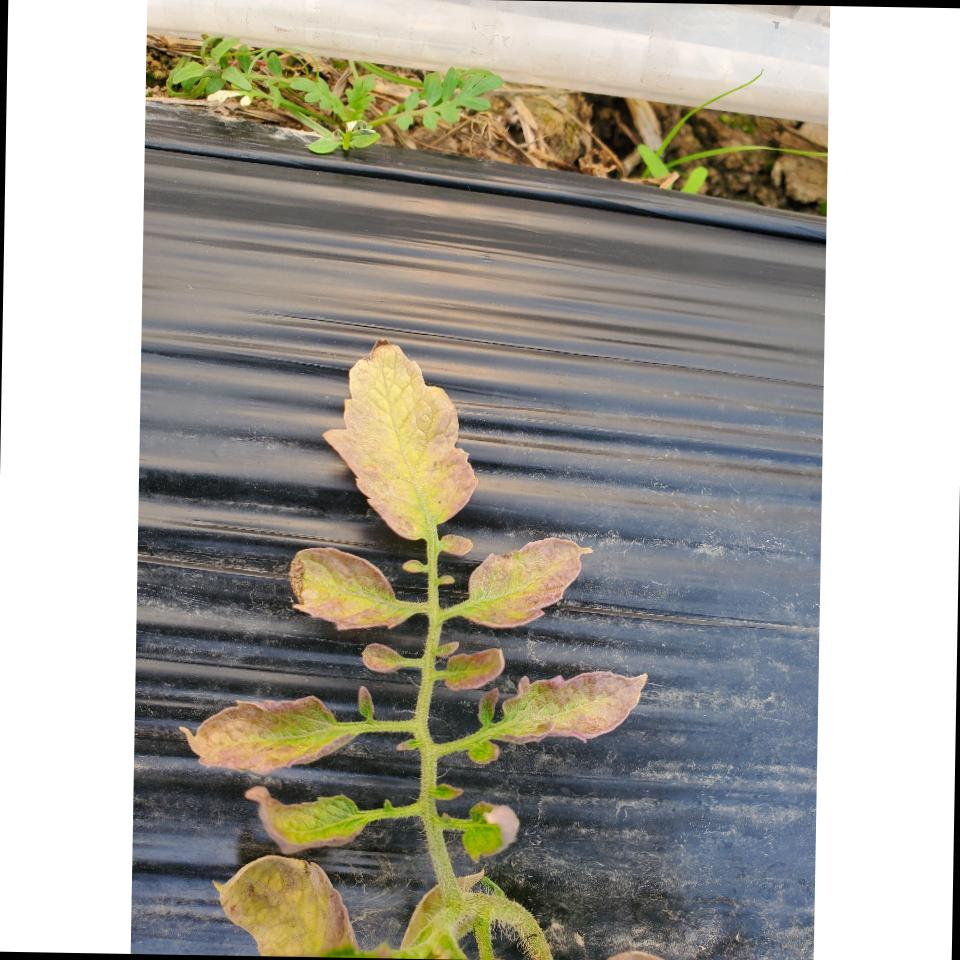tomato_yellow_leaf_curl_virus: (324, 340, 479, 533), (175, 699, 360, 774), (464, 538, 592, 622), (506, 671, 652, 743), (292, 546, 406, 628), (243, 784, 370, 856)
